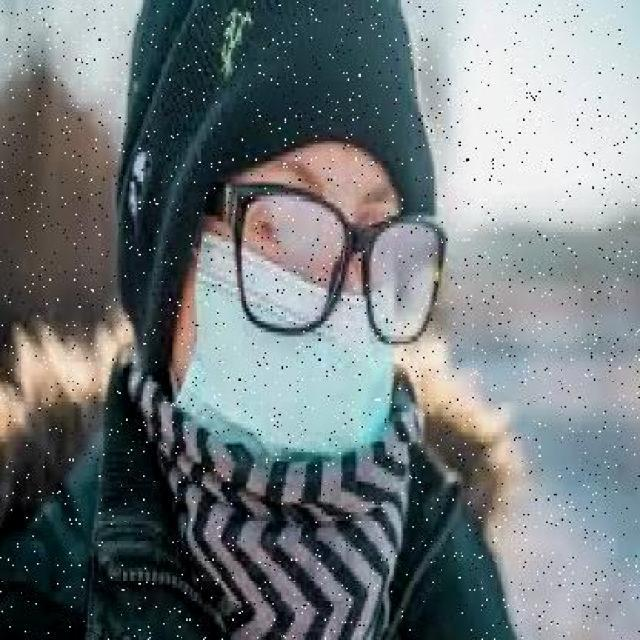mask: (217, 160, 454, 352)
